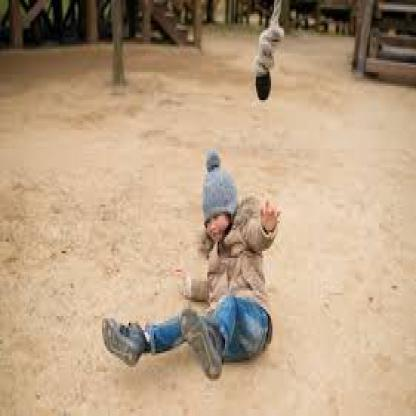Fall_Down: (97, 152, 283, 384)
